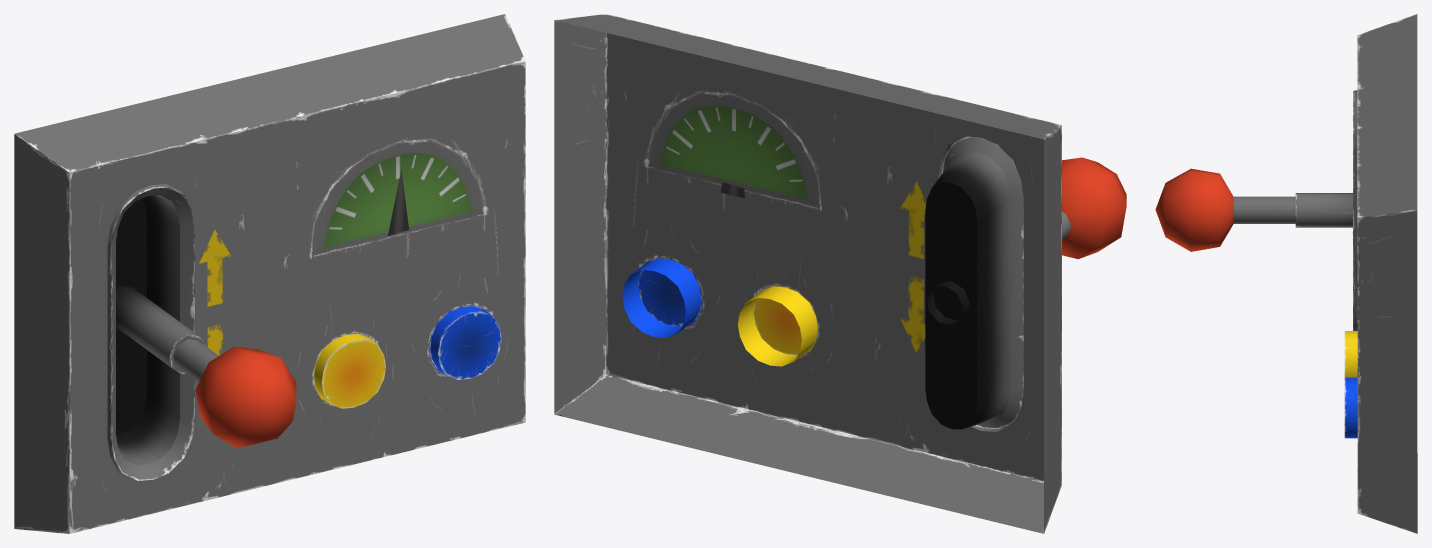
Rendered from Button_02.FBX.
3 renders of one model, left to right at view 1: azimuth 30°, elevation 25°; view 2: azimuth 150°, elevation 25°; view 3: azimuth 270°, elevation 25°, orthographic. The views are drawn at different scales.
Visible parts, largest first — view 1: Button_02, Button_02_lever_part1, Indicator; view 2: Button_02, Button_02_lever_part1; view 3: Button_02, Button_02_lever_part1.
Boxes of the visible parts, <box> form: Button_02: <box>14,14,525,533</box>; Button_02_lever_part1: <box>116,286,296,448</box>; Indicator: <box>388,169,408,235</box>; Button_02: <box>554,14,1061,533</box>; Button_02_lever_part1: <box>926,157,1126,325</box>; Button_02: <box>1344,14,1417,533</box>; Button_02_lever_part1: <box>1155,168,1352,251</box>.
Bounding box in the file's own units: 16.65 × 12.81 × 9.4.
1 material, 1 textured.
